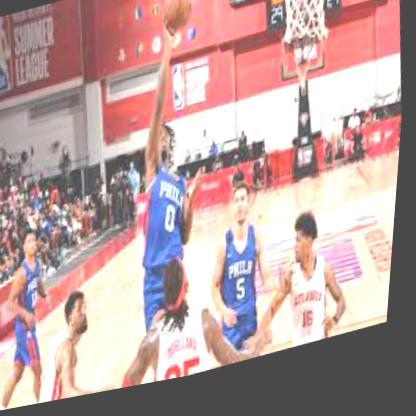basketball: (162, 0, 198, 42)
